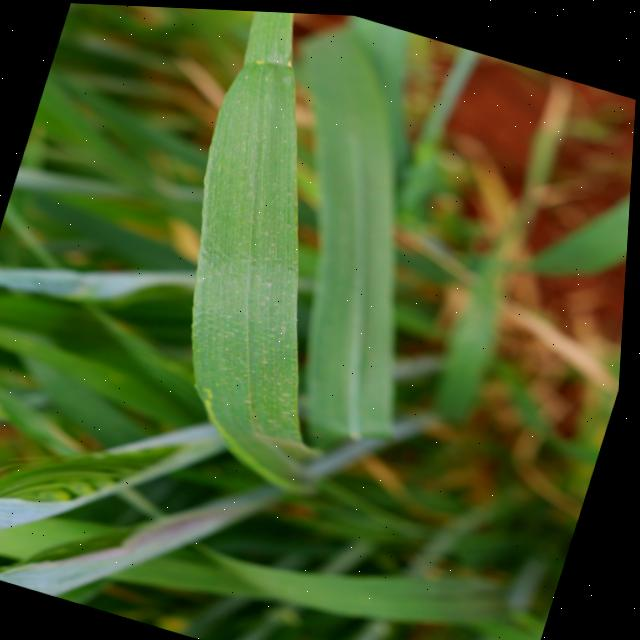healthy_wheat: (117, 5, 496, 481), (0, 378, 579, 640), (0, 11, 286, 441)
